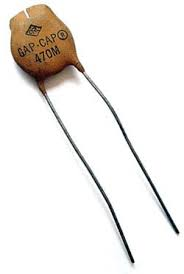ceramic capacitor: (4, 4, 97, 108)
